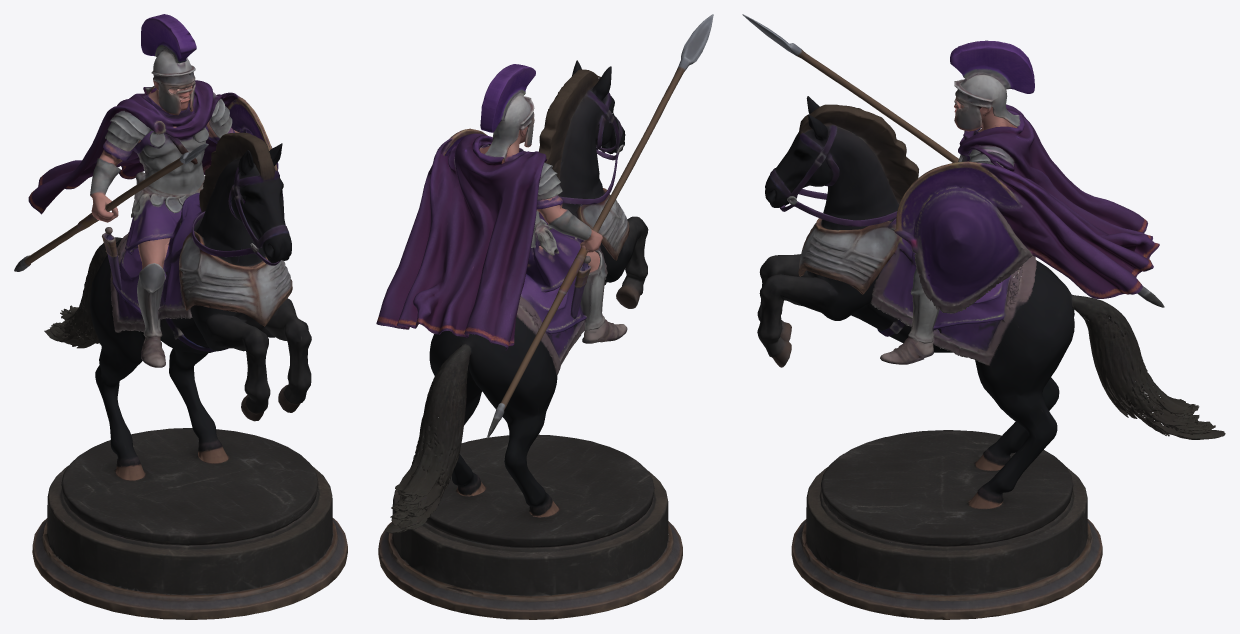
File: dark_knight.glb
The picture shows the model from 3 angles, left to right: view 1: azimuth 30°, elevation 25°; view 2: azimuth 150°, elevation 25°; view 3: azimuth 270°, elevation 25°; orthographic projection. The views are drawn at different scales.
Visible parts, largest first — view 1: geom0; view 2: geom0; view 3: geom0.
Boxes of the visible parts, x1,y1,x2,y2 form: geom0: [14, 14, 347, 619]; geom0: [376, 14, 713, 619]; geom0: [742, 14, 1225, 619].
Bounding box in the file's own units: 0.5533 × 1 × 0.8583.
Materials: 1 (1 with a texture image).
